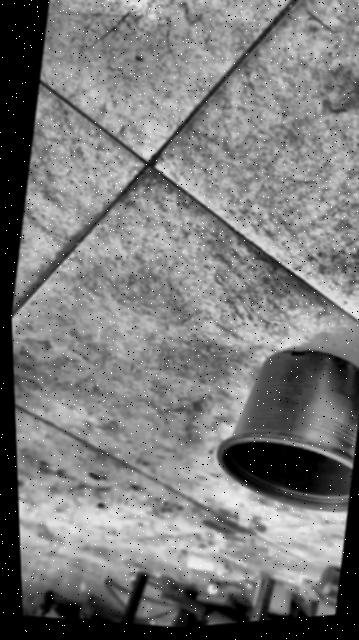pot: (203, 334, 359, 525)
